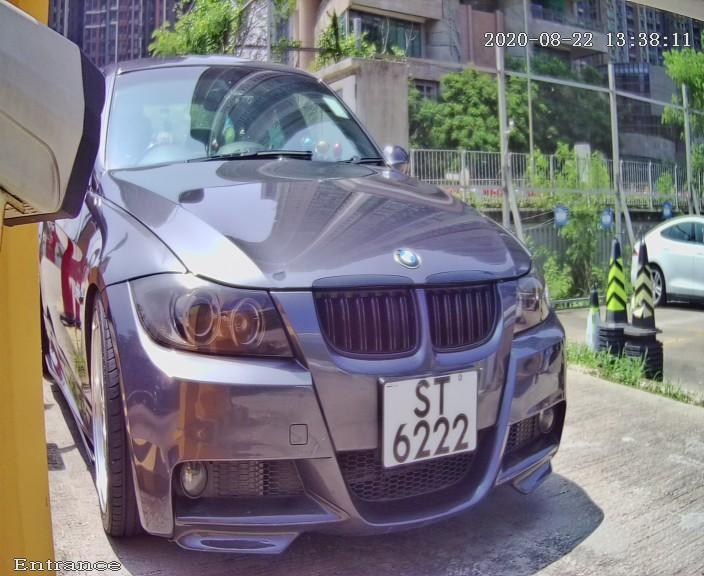Car: (35, 3, 588, 576)
License Plate: (368, 355, 485, 476)
